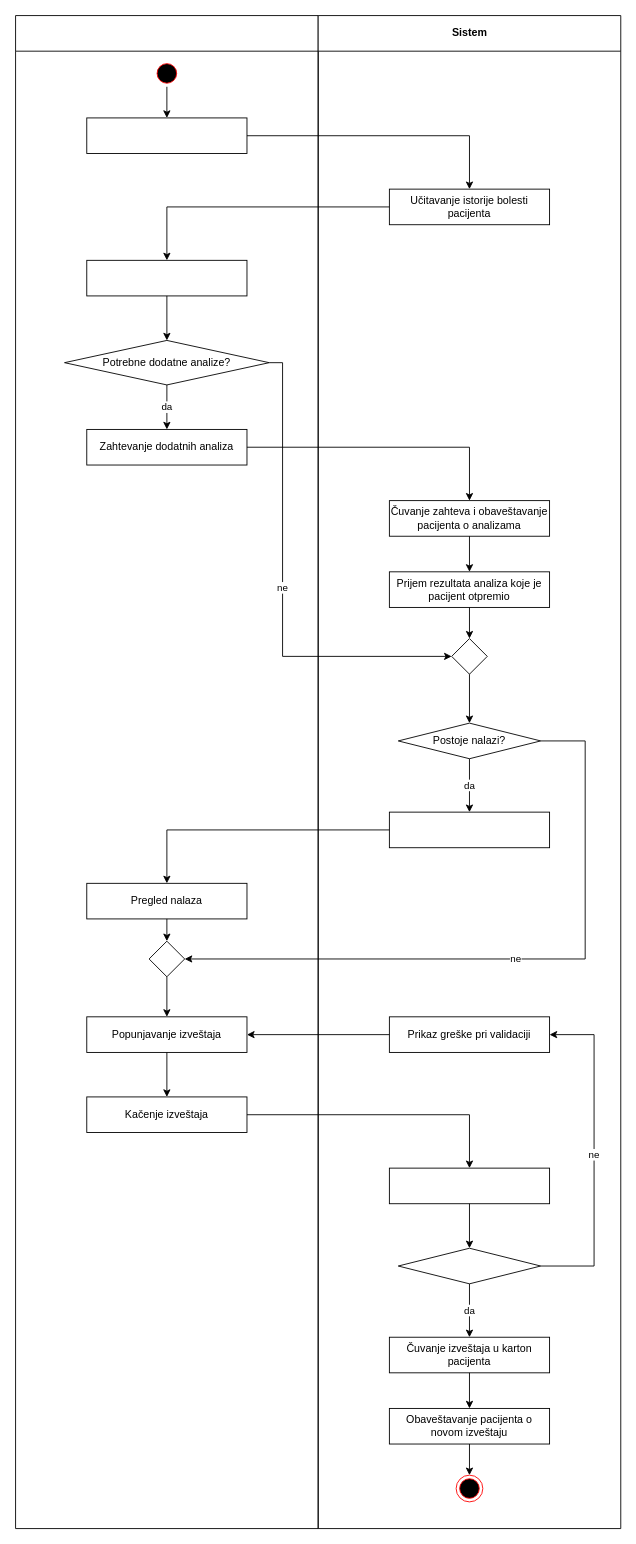
This 636x1544 diagram has some shape labels left out. Each missing label, with the box of its shape:
Doktor: (15, 15, 318, 1529)
Izbor pacijenta: (86, 117, 247, 154)
Izveštaj ispravan?: (397, 1247, 541, 1284)
Pregled istorije bolesti: (86, 259, 247, 296)
Prikaz otpremljenih nalaza pacijenta: (388, 811, 550, 848)
Validacija izveštaja: (388, 1167, 550, 1204)
